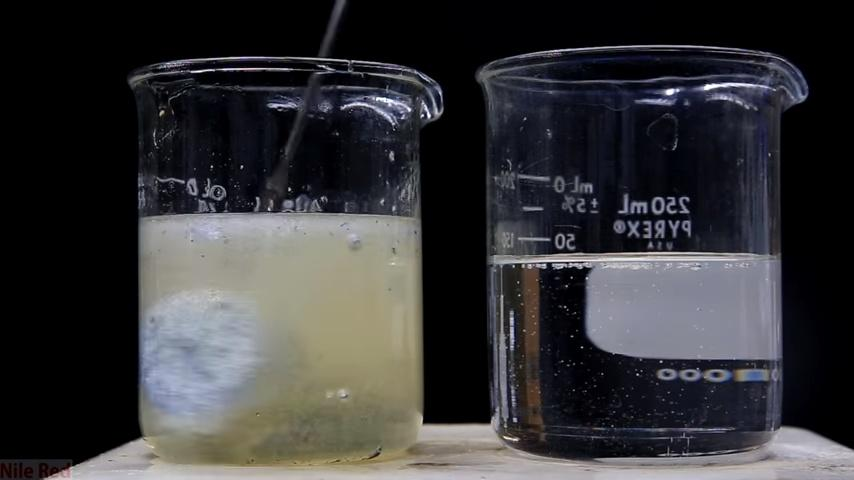Beaker: (473, 41, 813, 462), (118, 52, 445, 458)
